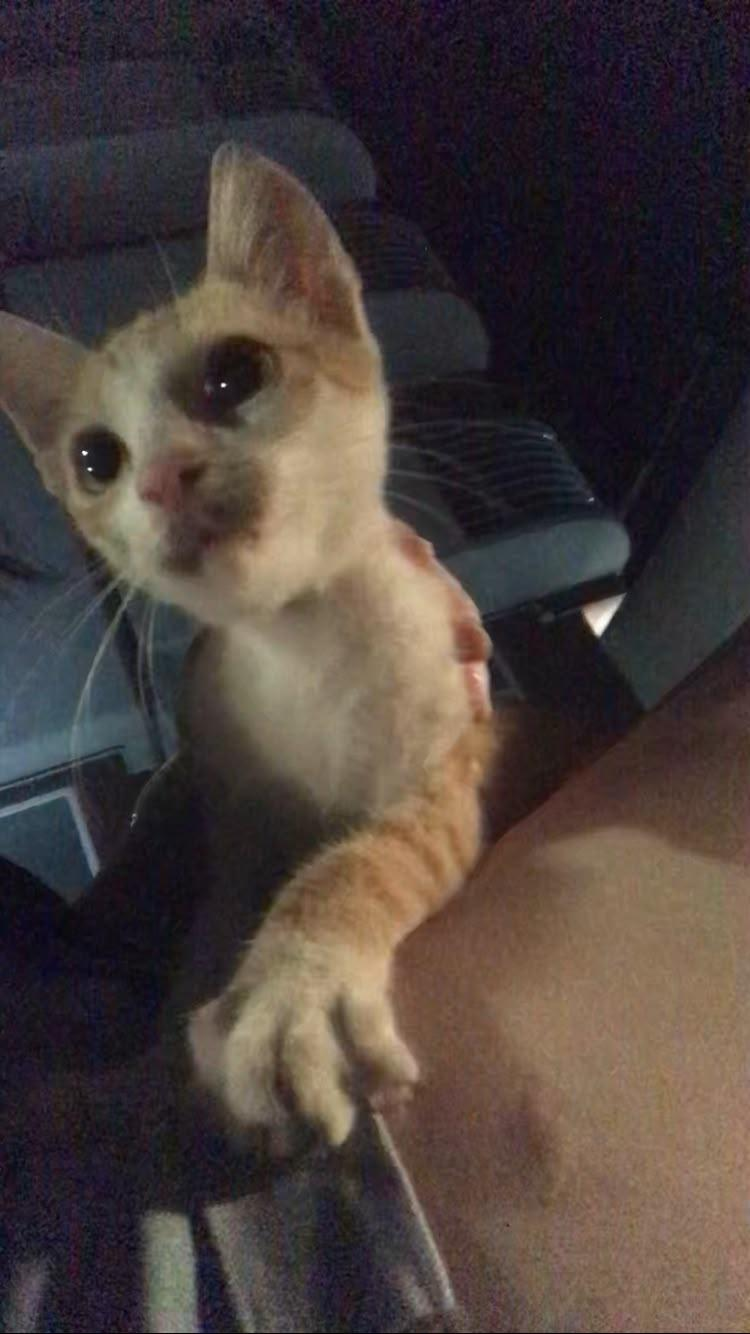macka: (0, 140, 498, 1160)
